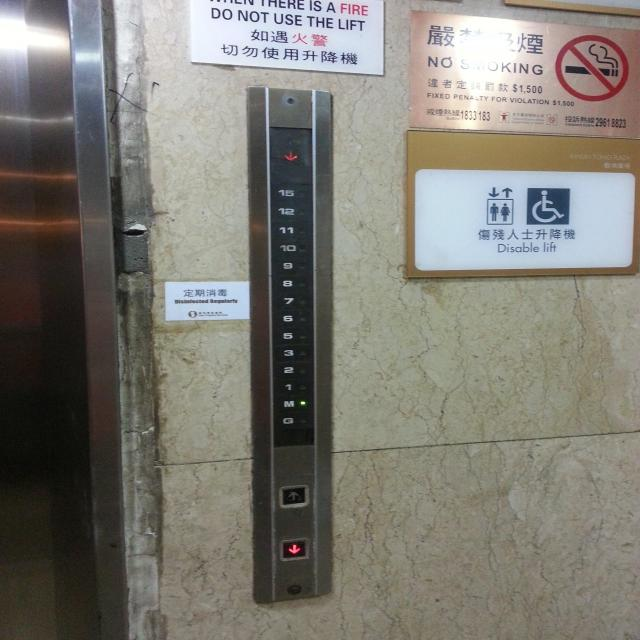1: (270, 376, 315, 398)
10: (270, 237, 314, 260)
11: (270, 218, 314, 241)
12: (269, 200, 314, 222)
15: (269, 181, 314, 204)
2: (270, 359, 315, 382)
3: (270, 341, 315, 364)
5: (270, 324, 315, 347)
6: (270, 307, 314, 329)
7: (270, 290, 314, 313)
8: (270, 273, 314, 295)
9: (270, 255, 314, 278)
G: (271, 409, 315, 432)
M: (270, 392, 315, 414)
down: (279, 538, 309, 560)
led: (268, 128, 312, 168)
up: (278, 484, 310, 508)
